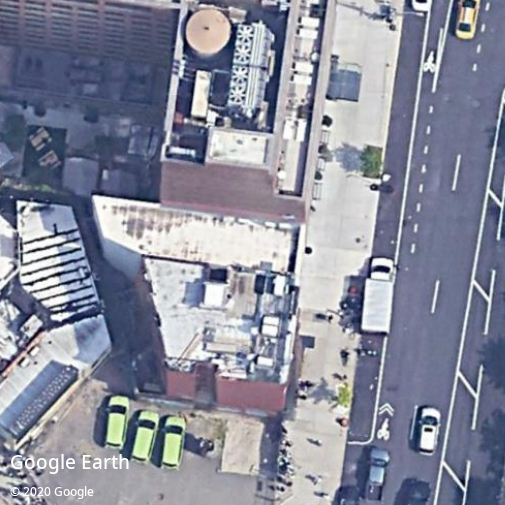Vent: (237, 25, 255, 44), (234, 45, 252, 63), (231, 66, 249, 84), (229, 85, 247, 103)
